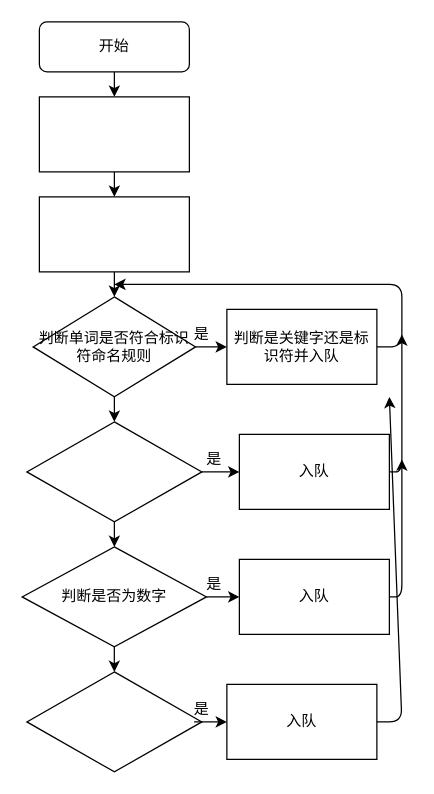
The diagram is 434 pixels wide and 794 high, and some of its shapes have lost their labels. Here are the shapes that lost their labels. From the top down, the box of each, then its label:
(38, 96, 189, 172): 删除源程序中注释
(38, 196, 189, 272): check
(26, 421, 202, 522): 判断单词是否为分隔符
(26, 671, 202, 772): 判断是否为操作符
